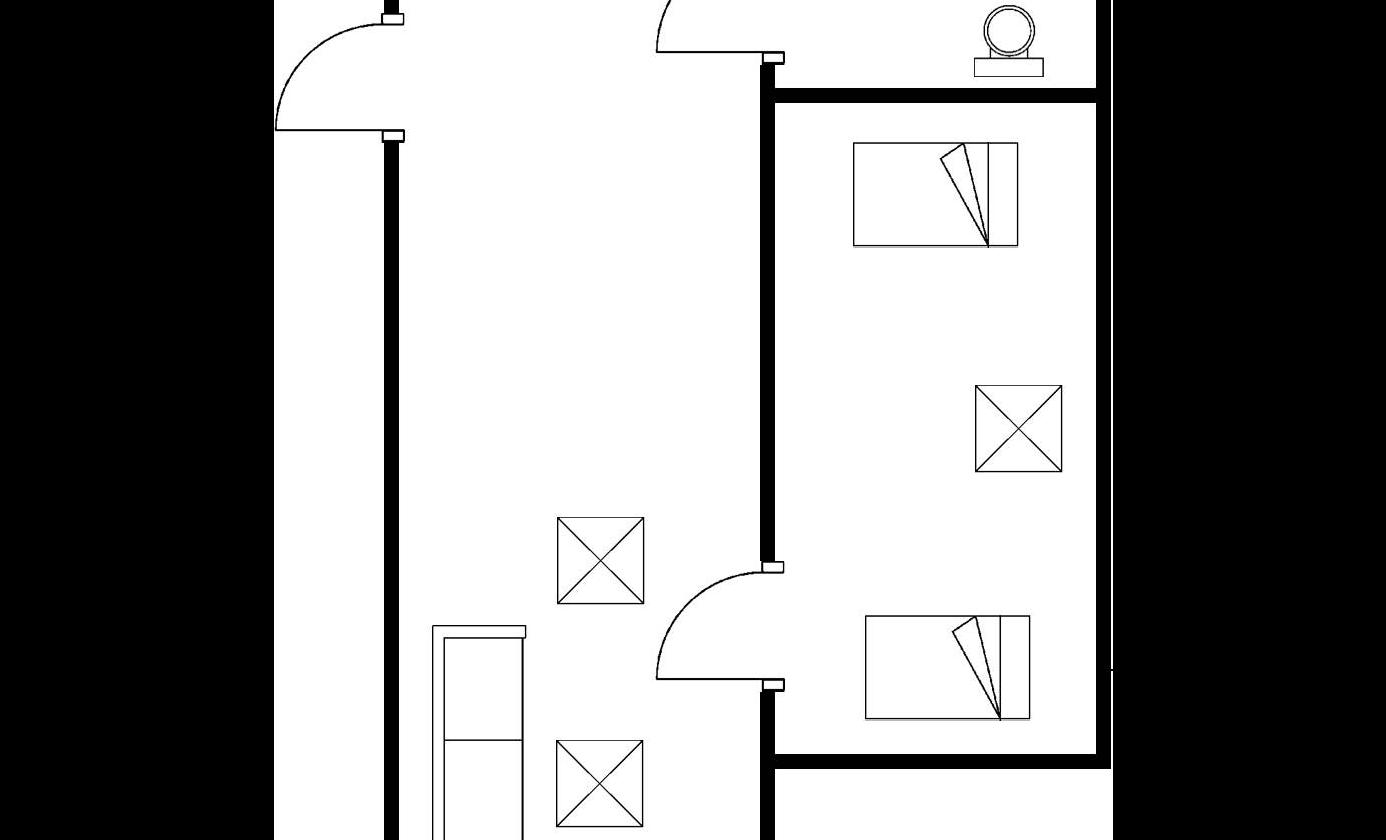bed: (845, 139, 1025, 259), (858, 609, 1037, 727)
sofa: (426, 619, 531, 840)
toilet: (967, 1, 1050, 82)
